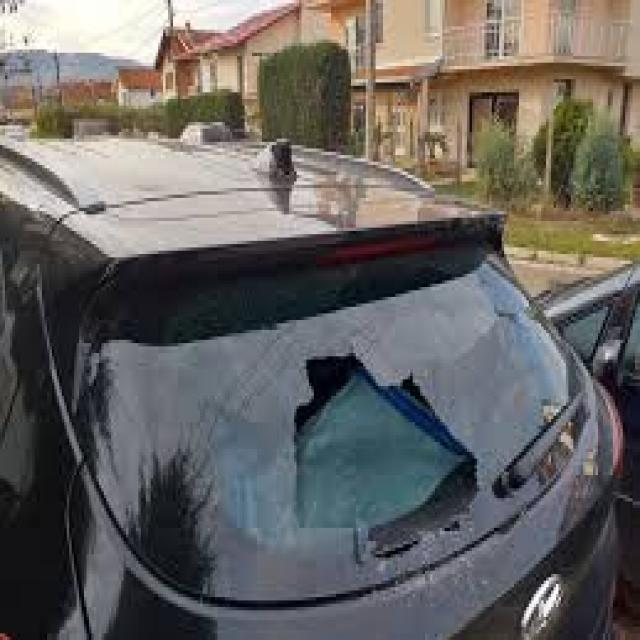damaged-rear-window: (84, 256, 602, 550)
